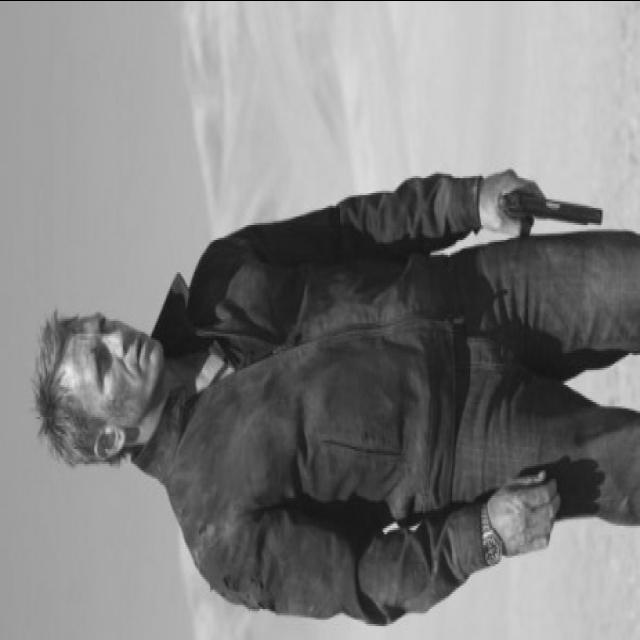weapons: (472, 149, 622, 263)
